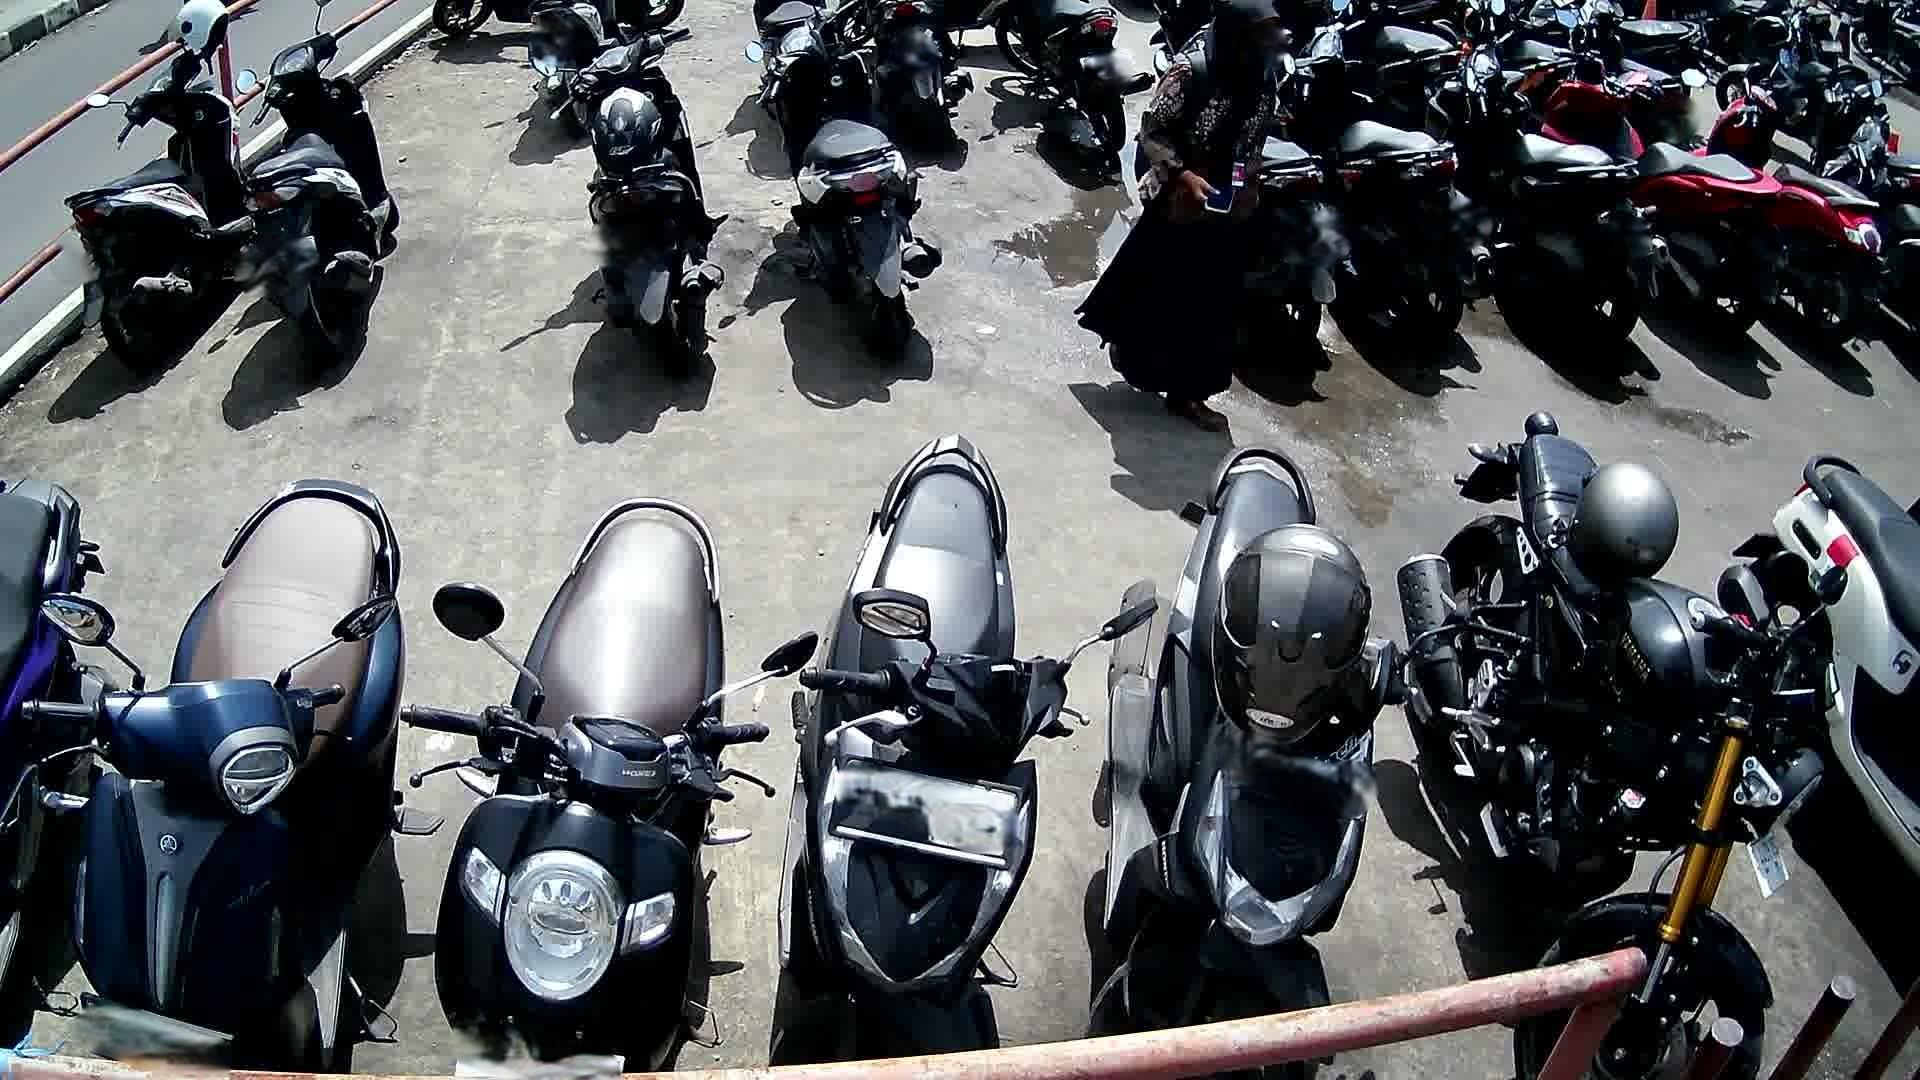motorcycle: (1395, 404, 1829, 1080), (18, 476, 450, 1072), (393, 497, 816, 1069), (769, 430, 1135, 1063), (1097, 439, 1412, 1080), (1419, 0, 1673, 357), (1716, 447, 1920, 876), (1532, 37, 1787, 349), (1283, 0, 1501, 359), (741, 0, 947, 372), (545, 21, 733, 390), (65, 30, 253, 380), (233, 0, 401, 371), (0, 467, 105, 1018), (1692, 75, 1891, 351)
